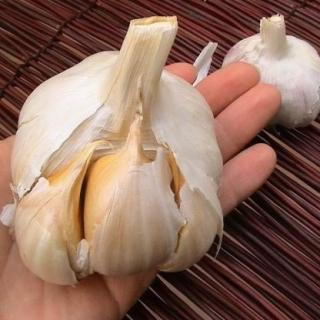Bawang Putih: (15, 49, 222, 286), (222, 14, 320, 128)
